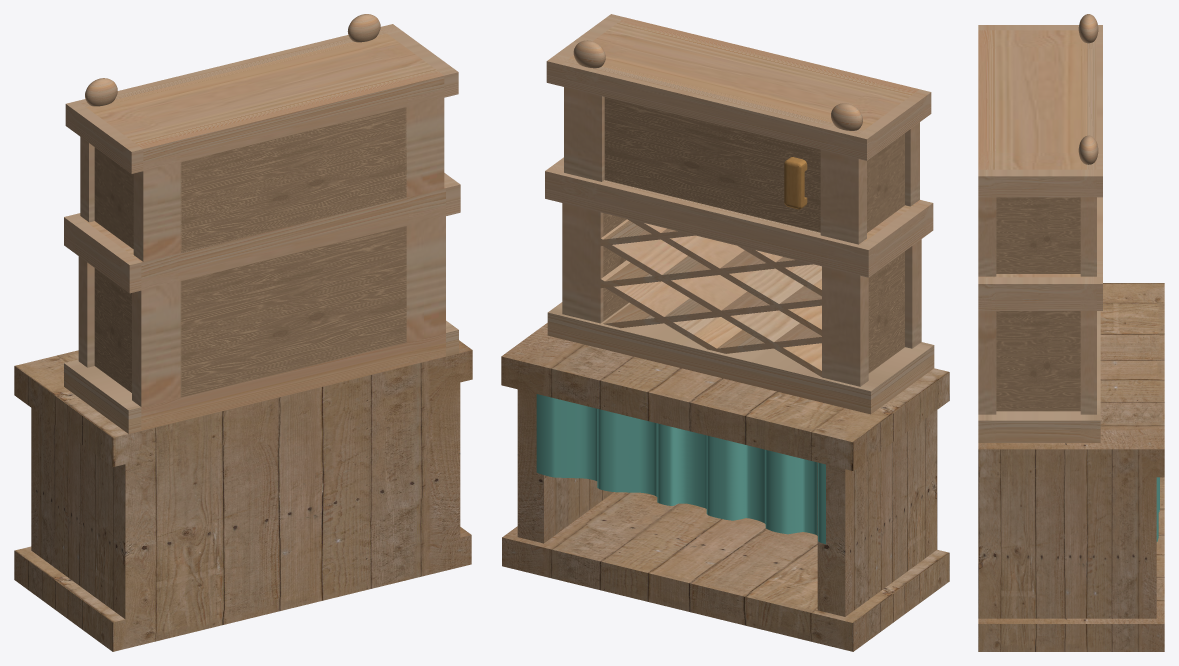
Rendered from rack_vino.obj.
The picture shows the model from 3 angles, left to right: view 1: azimuth 30°, elevation 25°; view 2: azimuth 150°, elevation 25°; view 3: azimuth 270°, elevation 25°; orthographic projection. The views are drawn at different scales.
Parts seen in each view (by area): view 1: polySurface246; view 2: polySurface246; view 3: polySurface246.
Part boxes in pixels (box(x1,y1,x2,y2)): polySurface246: box(14, 14, 472, 651); polySurface246: box(501, 14, 949, 651); polySurface246: box(978, 14, 1164, 651).
Size of the model in its own units: 1.31 by 1.81 by 0.6216.
6 materials, 6 textured.
